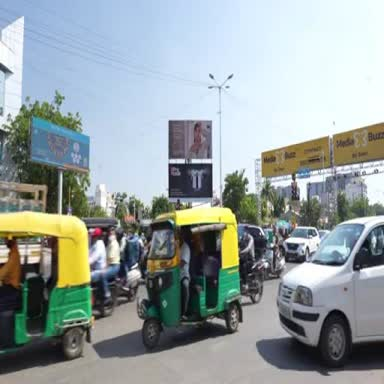Car: (277, 216, 383, 368), (284, 226, 320, 261), (238, 224, 268, 259), (319, 230, 329, 241), (321, 232, 330, 242)
